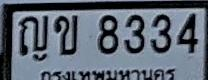3: (124, 14, 145, 54), (150, 14, 171, 53)
4: (178, 13, 198, 53)
8: (98, 14, 118, 54)
A02: (54, 15, 78, 55)
A13: (19, 15, 48, 55)
BKK: (40, 66, 176, 80)
